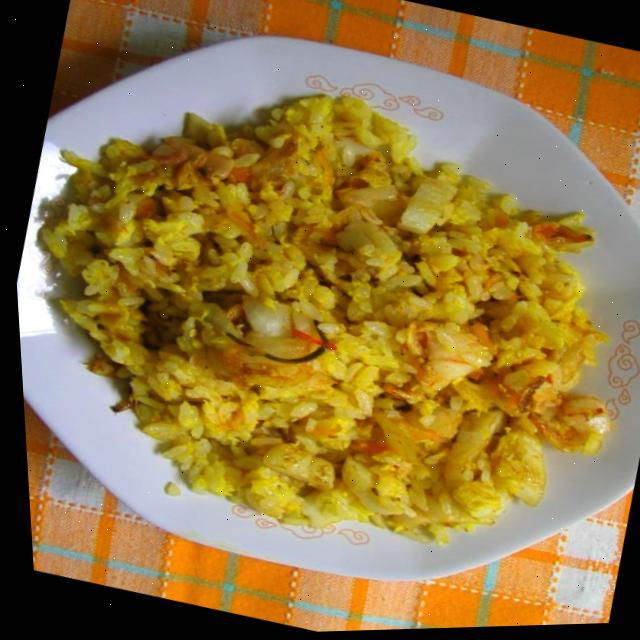米饭主食: (12, 237, 640, 640)
